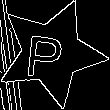P_N: (30, 26, 72, 80)
